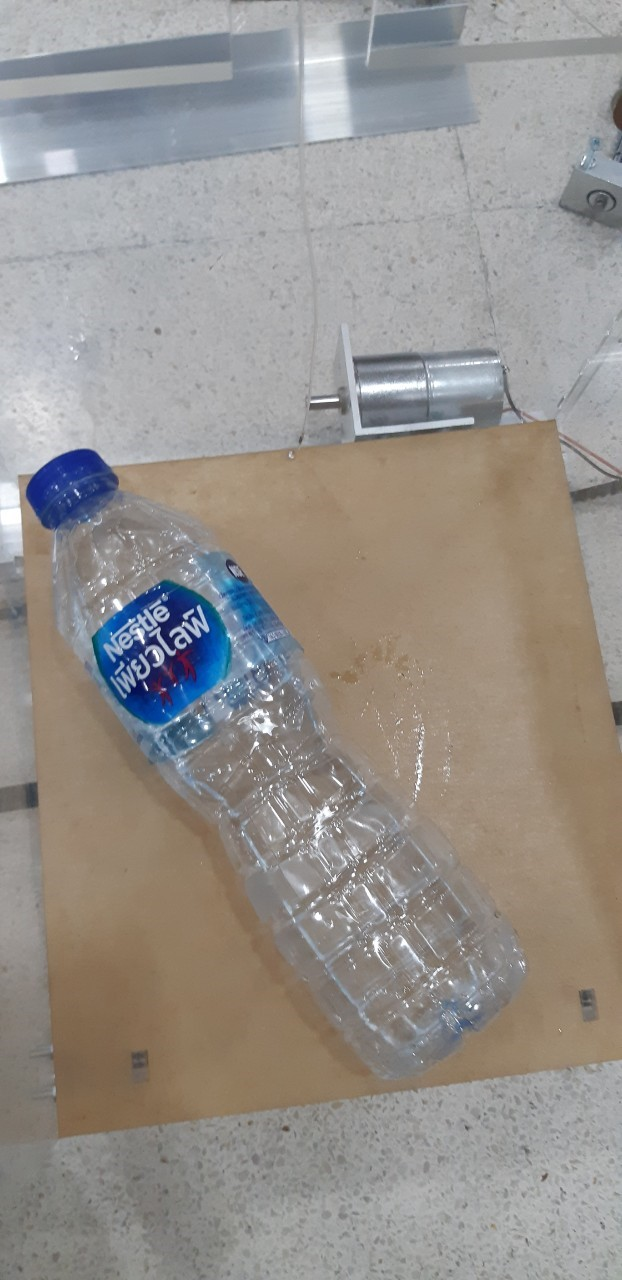PlasticBottle: (28, 447, 532, 1079)
